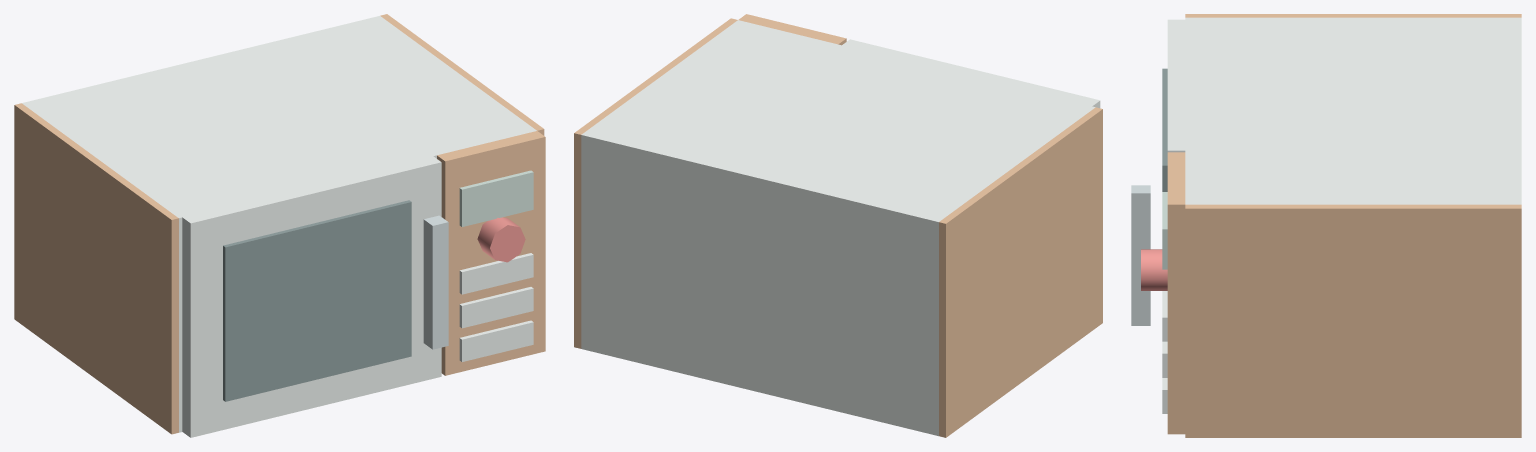
File: microwaveRetro.glb
3 views of the same model, side by side, from view 1: azimuth 30°, elevation 25°; view 2: azimuth 150°, elevation 25°; view 3: azimuth 270°, elevation 25° (orthographic). The views are drawn at different scales.
Visible parts, largest first — view 1: microwaveRetro, anim:door; view 2: microwaveRetro, anim:door; view 3: microwaveRetro, anim:door.
Boxes of the visible parts, x1=… form: microwaveRetro: x1=14, y1=14, x2=545, y2=434; anim:door: x1=182, y1=156, x2=448, y2=437; microwaveRetro: x1=574, y1=14, x2=1102, y2=437; anim:door: x1=842, y1=39, x2=1100, y2=108; microwaveRetro: x1=1141, y1=14, x2=1521, y2=437; anim:door: x1=1131, y1=19, x2=1185, y2=325.
Size of the model in its own units: 0.26 by 0.15 by 0.2205.
